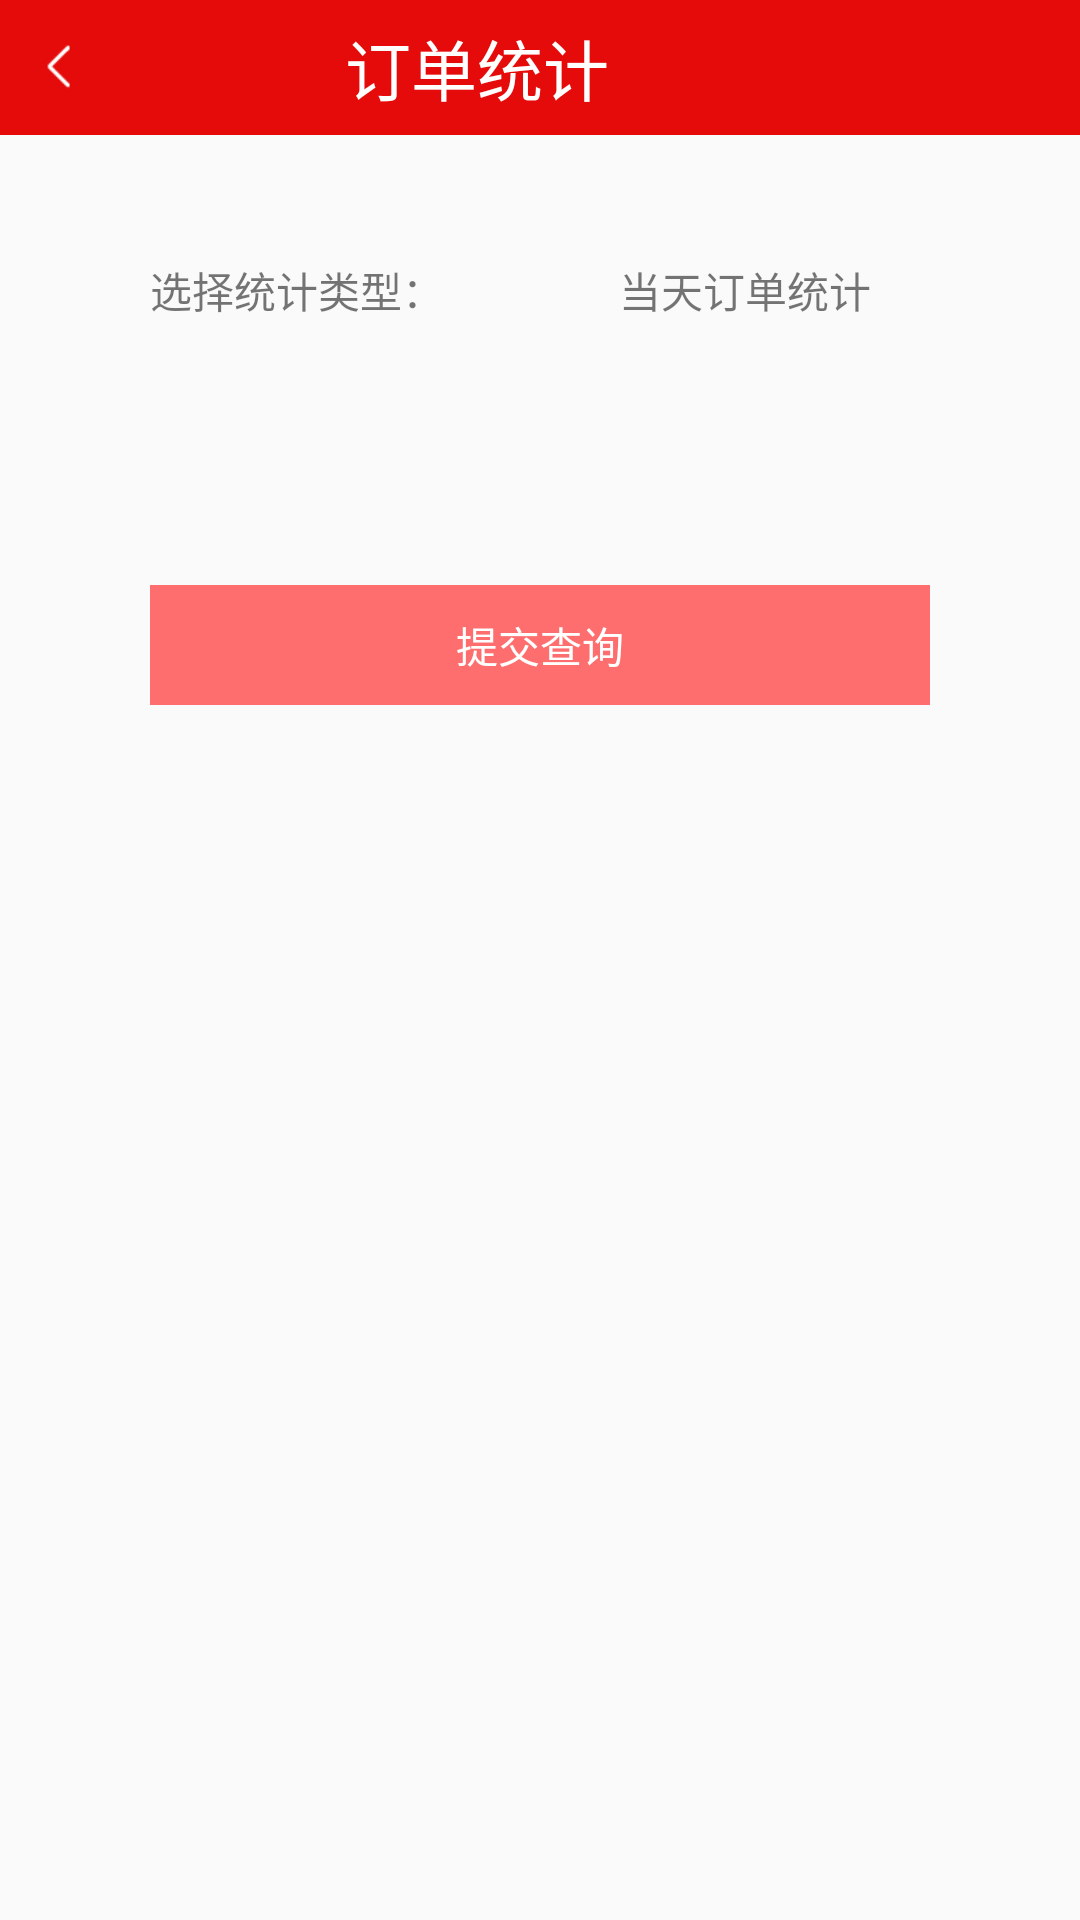

Where icons sit on this 1080 × 1920 app screen, as detection(x1, y1, x2, y2):
btnbar back: detection(47, 45, 70, 88)
